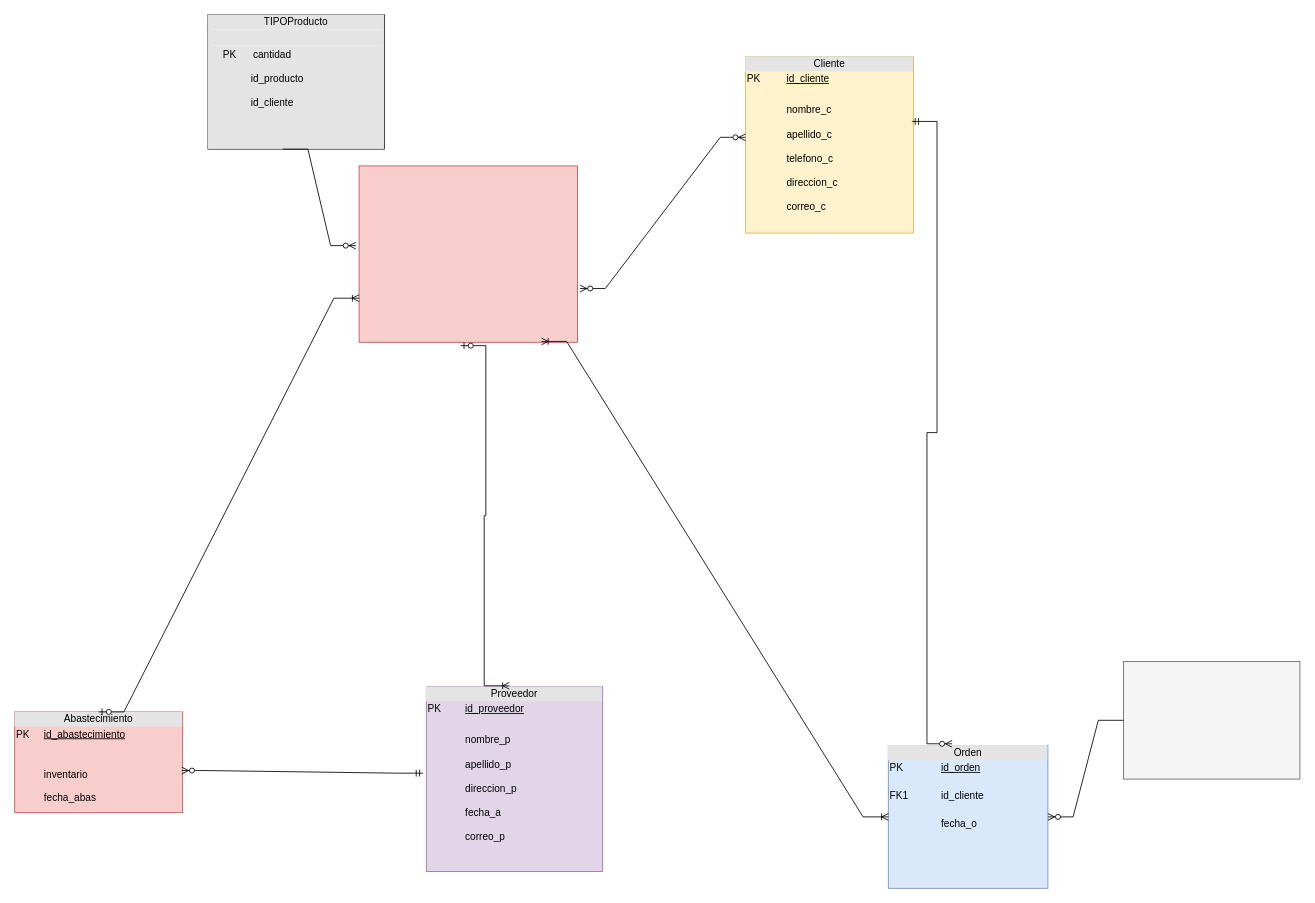
This 1315x903 diagram has some shape labels left out. Each missing label, with the centre of its shape:
DetalleXOrden PK precio_unitario id_detalle id_orden: point (1211, 720)
Producto PK id_producto FK1 id_proveedor nombre_pr descripcion existencia: point (468, 253)
